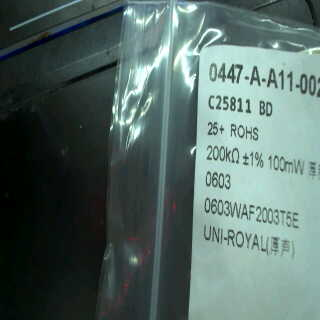200kR: (203, 142, 242, 167)
